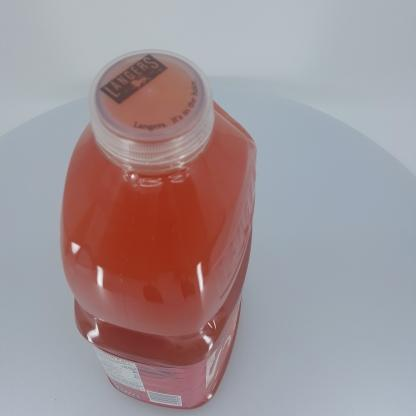---------------: (60, 50, 257, 409)
